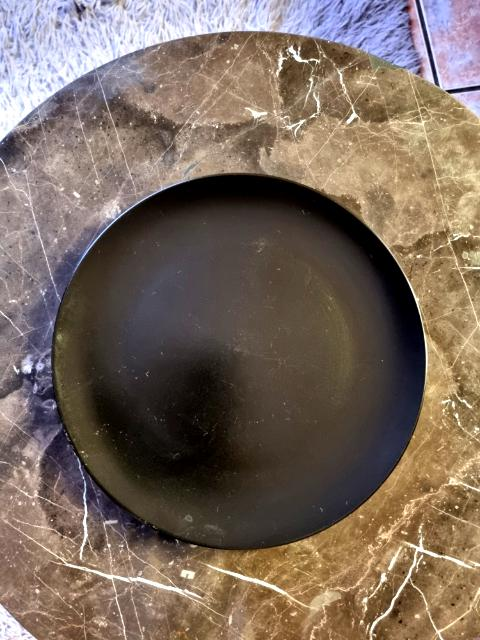Plate: (54, 175, 425, 548)
